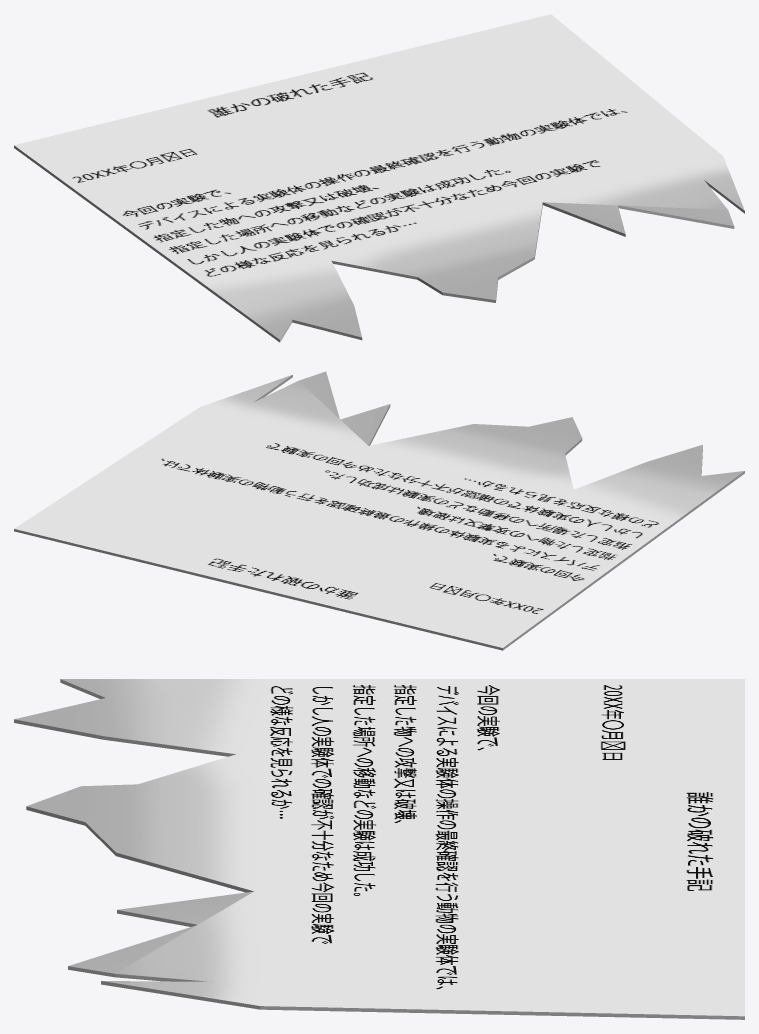
Rendered from rips-Paper1.fbx.
3 renders of one model, top to bottom at view 1: azimuth 30°, elevation 25°; view 2: azimuth 150°, elevation 25°; view 3: azimuth 270°, elevation 25°, orthographic. The views are drawn at different scales.
Visible parts, largest first — view 1: rips-Paper; view 2: rips-Paper; view 3: rips-Paper.
Boxes of the visible parts, <box> form: rips-Paper: <box>14,14,744,342</box>; rips-Paper: <box>14,371,744,650</box>; rips-Paper: <box>14,679,744,1019</box>.
Bounding box in the file's own units: 0.2 × 0.001 × 0.1832.
